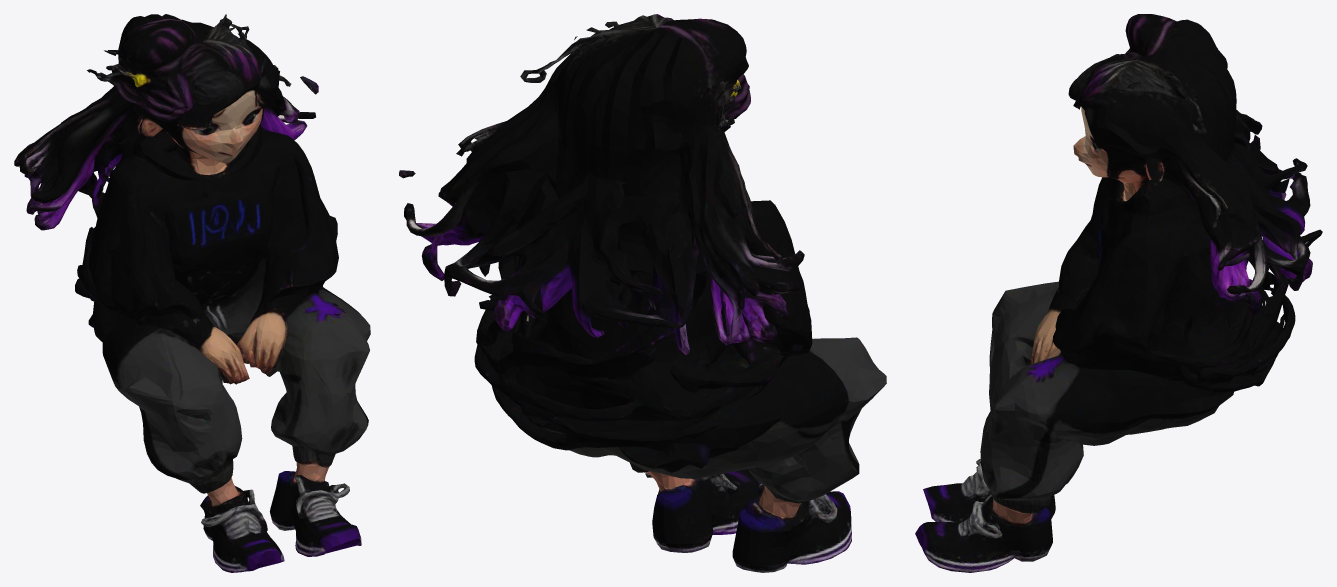
The model's file is char_nova.glb.
The picture shows the model from 3 angles, left to right: view 1: azimuth 30°, elevation 25°; view 2: azimuth 150°, elevation 25°; view 3: azimuth 270°, elevation 25°; orthographic projection. The views are drawn at different scales.
Visible parts, largest first — view 1: char_nova_model; view 2: char_nova_model; view 3: char_nova_model.
Part boxes in pixels (left/top/right/bottom): char_nova_model: left=14, top=14, right=370, bottom=572; char_nova_model: left=399, top=14, right=886, bottom=572; char_nova_model: left=915, top=14, right=1322, bottom=572.
Bounding box in the file's own units: 0.8728 × 1.3 × 0.9541.
Materials: 1 (1 with a texture image).
